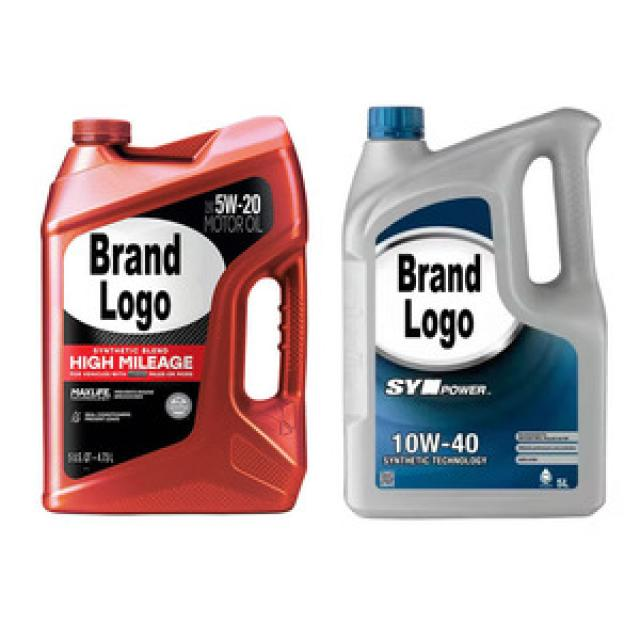motor_oil: (330, 90, 618, 538), (38, 86, 310, 528)
